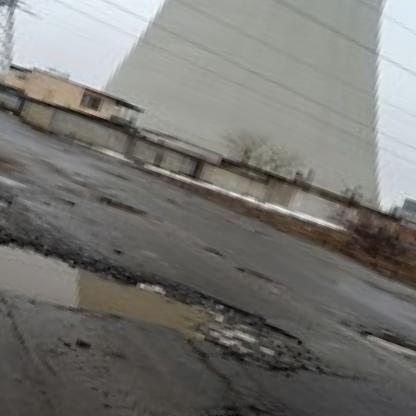pothole: (0, 196, 332, 407), (188, 386, 382, 416), (358, 325, 416, 371), (237, 266, 278, 287), (203, 246, 231, 263)
